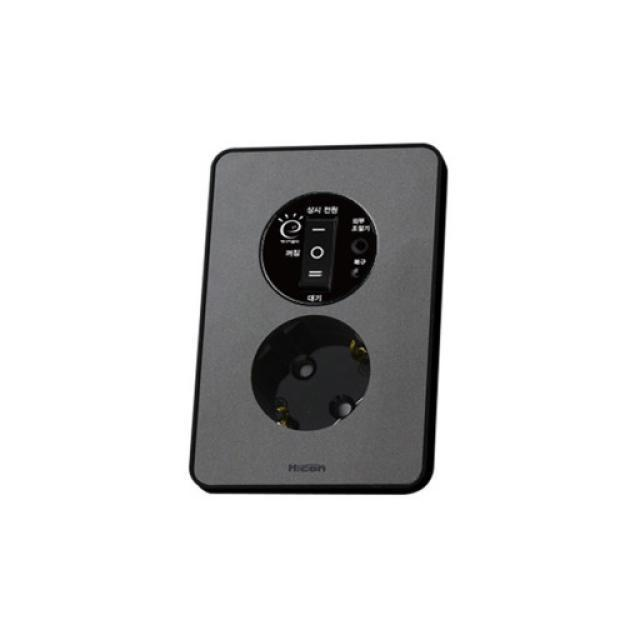typeb: (169, 66, 524, 560)
